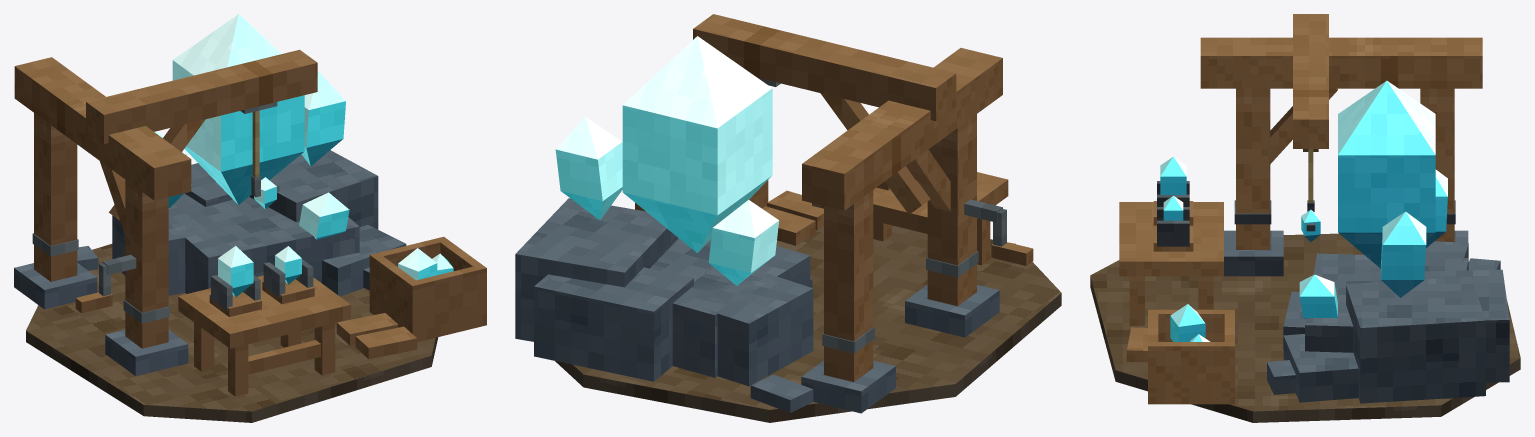
The model's file is arcane_conduit_v2.glb.
3 renders of one model, left to right at view 1: azimuth 30°, elevation 25°; view 2: azimuth 150°, elevation 25°; view 3: azimuth 270°, elevation 25°, orthographic. The views are drawn at different scales.
Visible parts, largest first — view 1: arcane_conduit_v2_Worked_Mana_Seam.002; view 2: arcane_conduit_v2_Worked_Mana_Seam.002; view 3: arcane_conduit_v2_Worked_Mana_Seam.002.
Boxes of the visible parts, bbox=[...] form: arcane_conduit_v2_Worked_Mana_Seam.002: bbox=[14, 14, 486, 422]; arcane_conduit_v2_Worked_Mana_Seam.002: bbox=[515, 14, 1061, 422]; arcane_conduit_v2_Worked_Mana_Seam.002: bbox=[1090, 14, 1520, 422].
Size of the model in its own units: 1.19 by 0.83 by 1.19.
Materials: 1 (1 with a texture image).
